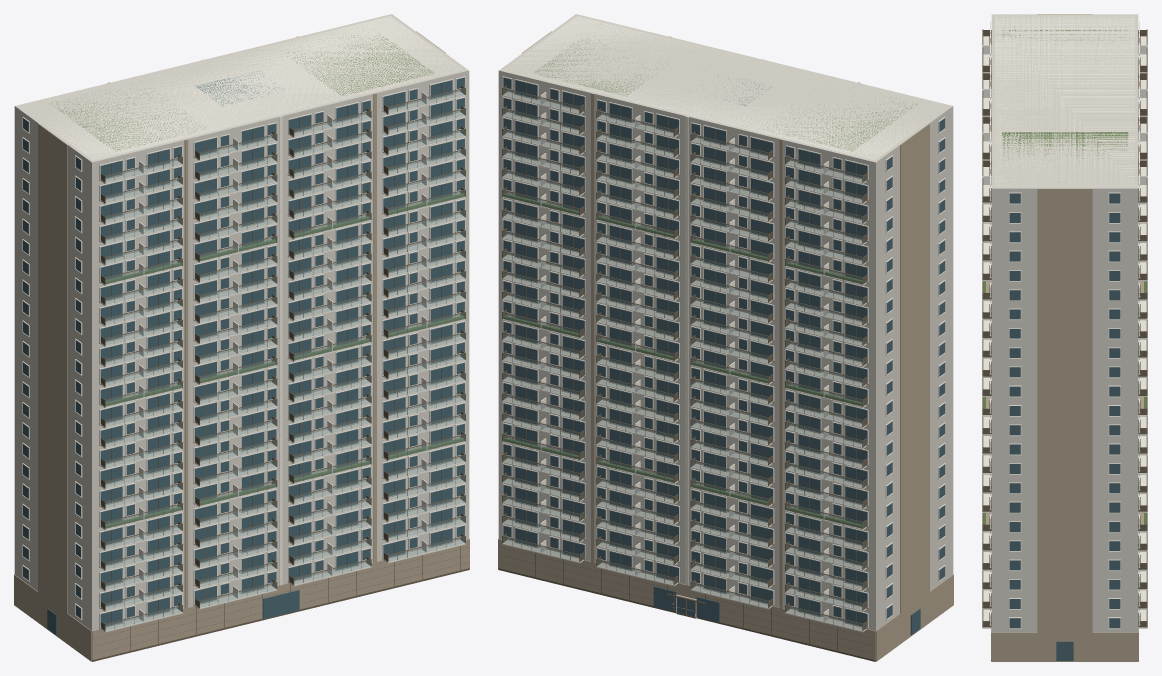
The model's file is guil2050_118_exterior.glb.
3 views of the same model, side by side, from view 1: azimuth 30°, elevation 25°; view 2: azimuth 150°, elevation 25°; view 3: azimuth 270°, elevation 25° (orthographic). The views are drawn at different scales.
Visible parts, largest first — view 1: future-tower, long-facade-windows, balcony-glass-guards, balcony-sunshade-ledges, long-facade-window-frames, roof-energy-band, end-solid-core-panel, balcony-rail-top, warm-stone-podium-south, balcony-rail-ends, paired-dwelling-divider (×2), paired-balcony-privacy-panels (+12 smaller); view 2: future-tower, long-facade-windows, balcony-glass-guards, balcony-sunshade-ledges, long-facade-window-frames, end-solid-core-panel, balcony-rail-top, roof-energy-band, warm-stone-podium-north, balcony-rail-ends, paired-dwelling-divider (×2), paired-balcony-privacy-panels (+12 smaller); view 3: future-tower, end-solid-core-panel, roof-energy-band, end-facade-windows, balcony-sunshade-ledges, warm-stone-podium-end, balcony-rail-ends, end-facade-window-frames, roof-garden-court, balcony-rail-top, long-facade-window-sills, long-facade-window-frames (+5 smaller).
Part boxes in pixels (x1,y1,x2,y2): future-tower: (14,14,469,630); long-facade-windows: (100,77,464,627); balcony-glass-guards: (104,89,465,630); balcony-sunshade-ledges: (101,92,465,632); long-facade-window-frames: (99,76,465,628); roof-energy-band: (25,16,462,160); end-solid-core-panel: (38,31,445,613); balcony-rail-top: (104,87,465,624); warm-stone-podium-south: (92,539,469,661); balcony-rail-ends: (101,85,465,630); paired-dwelling-divider (×2): (107,36,376,608); paired-balcony-privacy-panels: (139,92,427,621); future-tower: (498,14,953,630); long-facade-windows: (503,77,867,627); balcony-glass-guards: (502,89,863,630); balcony-sunshade-ledges: (502,92,866,632); long-facade-window-frames: (502,76,868,628); end-solid-core-panel: (522,31,929,613); balcony-rail-top: (502,87,863,624); roof-energy-band: (506,16,942,160); warm-stone-podium-north: (498,539,875,661); balcony-rail-ends: (502,85,866,630); paired-dwelling-divider (×2): (591,36,860,608); paired-balcony-privacy-panels: (540,92,828,621); future-tower: (991,14,1138,632); end-solid-core-panel: (1037,14,1092,632); roof-energy-band: (995,15,1134,187); end-facade-windows: (1009,193,1120,628); balcony-sunshade-ledges: (982,36,1147,628); warm-stone-podium-end: (991,632,1138,661); balcony-rail-ends: (982,30,1147,627); end-facade-window-frames: (1009,192,1120,629); roof-garden-court: (1001,28,1128,158); balcony-rail-top: (982,29,1147,621); long-facade-window-sills: (989,36,1140,626); long-facade-window-frames: (990,21,1139,625).
Bounding box in the file's own units: 62.52 × 78.4 × 24.8.
